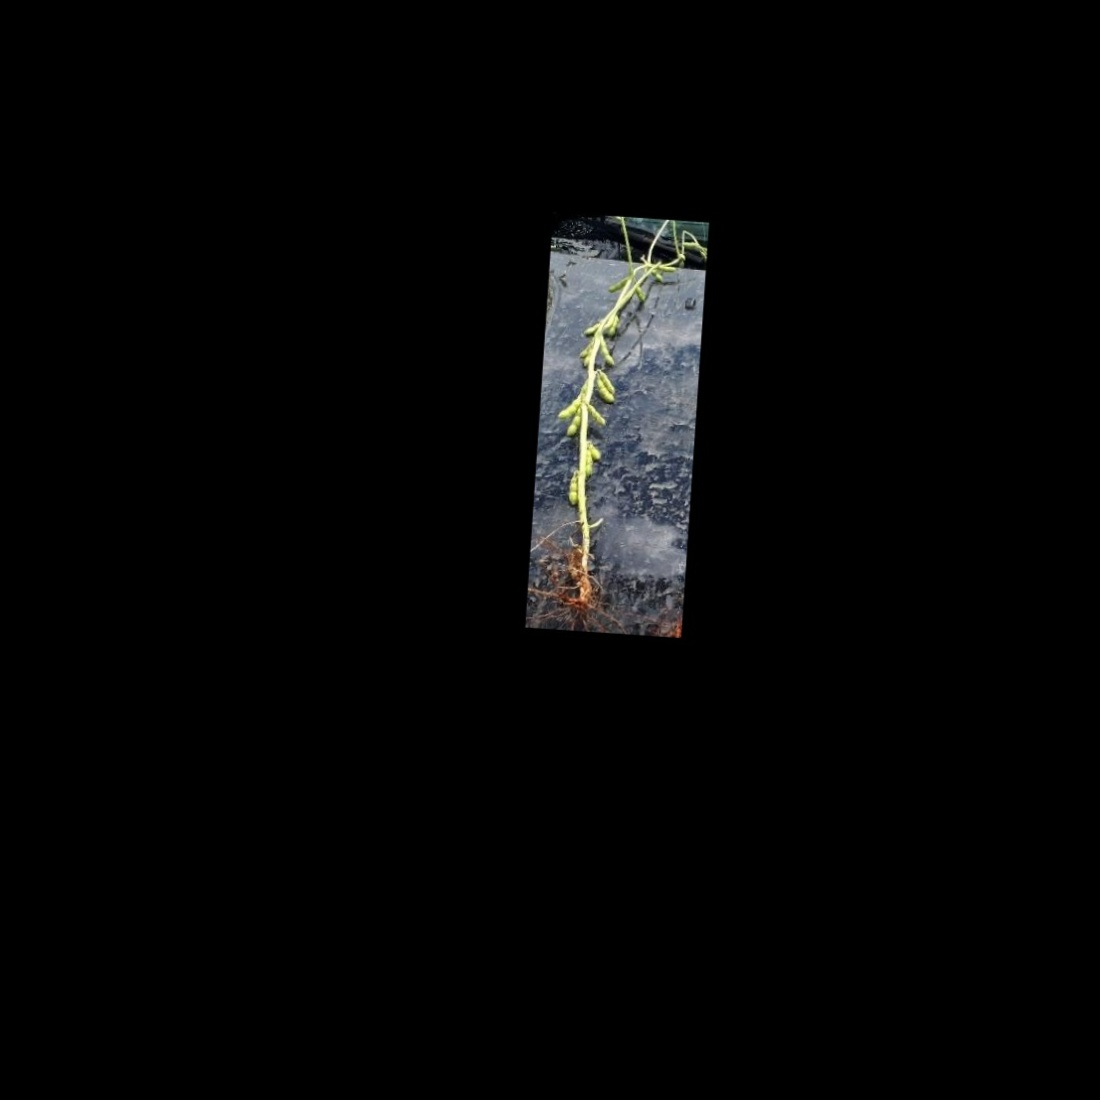pod: (555, 391, 585, 421), (565, 473, 582, 511), (584, 403, 610, 427), (564, 407, 583, 438), (598, 338, 618, 367), (630, 277, 648, 304), (605, 274, 629, 294), (582, 449, 593, 477), (647, 267, 664, 283)
soy: (538, 234, 692, 620)
